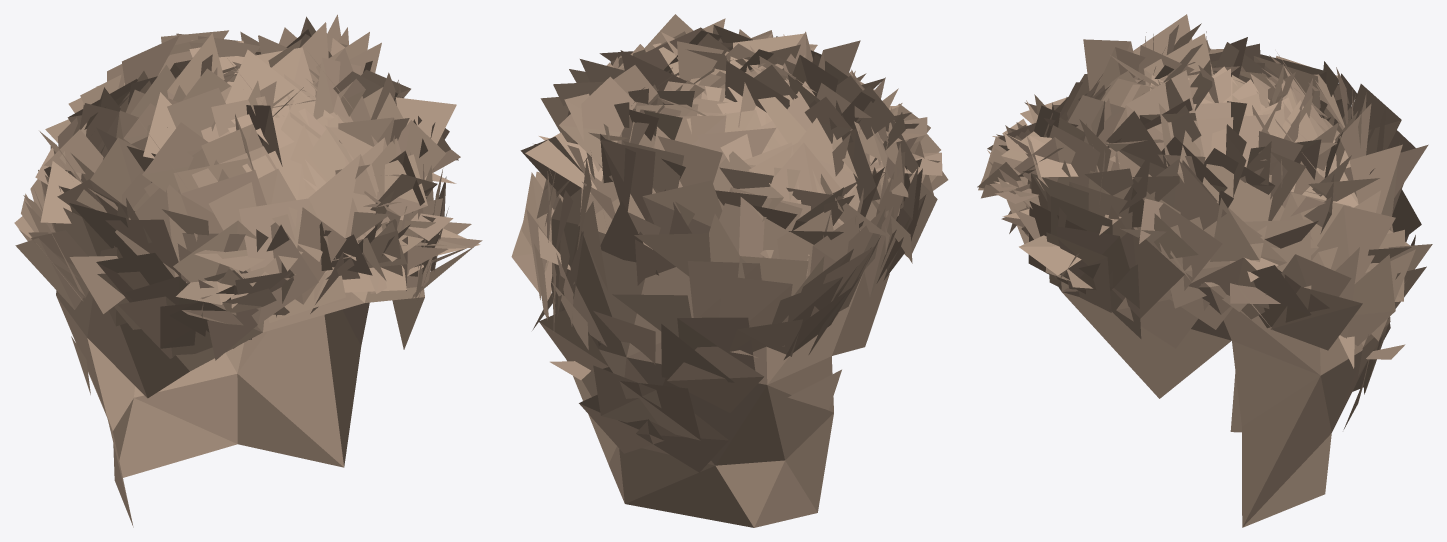
The model's file is male_hair_01_lod2.glb.
The picture shows the model from 3 angles, left to right: view 1: azimuth 30°, elevation 25°; view 2: azimuth 150°, elevation 25°; view 3: azimuth 270°, elevation 25°; orthographic projection. The views are drawn at different scales.
Visible parts, largest first — view 1: hair_01; view 2: hair_01; view 3: hair_01.
Boxes of the visible parts, box(x1,y1,x2,y2) form: hair_01: box(14, 14, 482, 527); hair_01: box(511, 14, 948, 527); hair_01: box(977, 14, 1432, 527).
Bounding box in the file's own units: 0.2007 × 0.2329 × 0.221.
